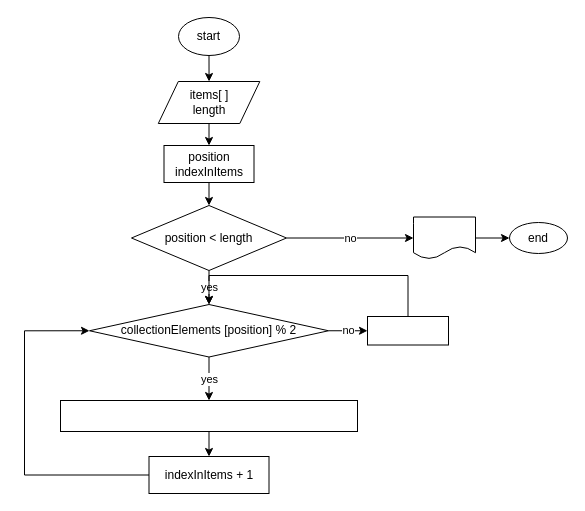
The diagram is 585 pixels wide and 511 high, and some of its shapes have lost their labels. The shapes that lost their labels are listed below. From the top down, each one's centre as x and y in pixels, then its label:
At point (444, 237): "items".
At point (407, 330): "position + 1".
At point (209, 416): "items [indexInItems] = CollectionElements [position]".
